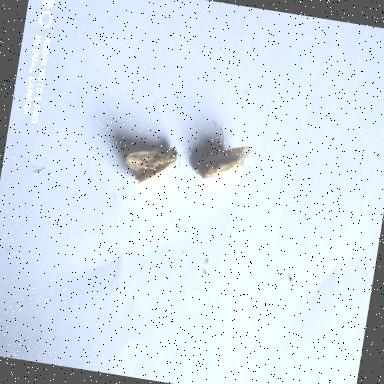pbw: (191, 119, 258, 184), (120, 136, 183, 194)
